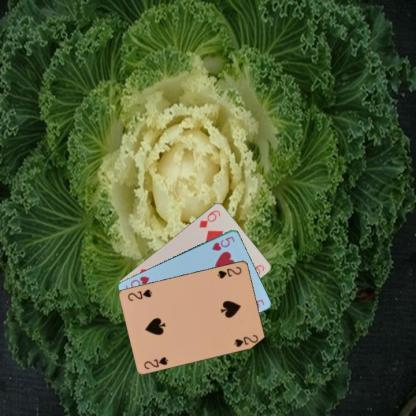2s: (142, 354, 170, 370), (216, 264, 243, 280)
5h: (209, 233, 236, 252)
6d: (196, 207, 222, 229)
